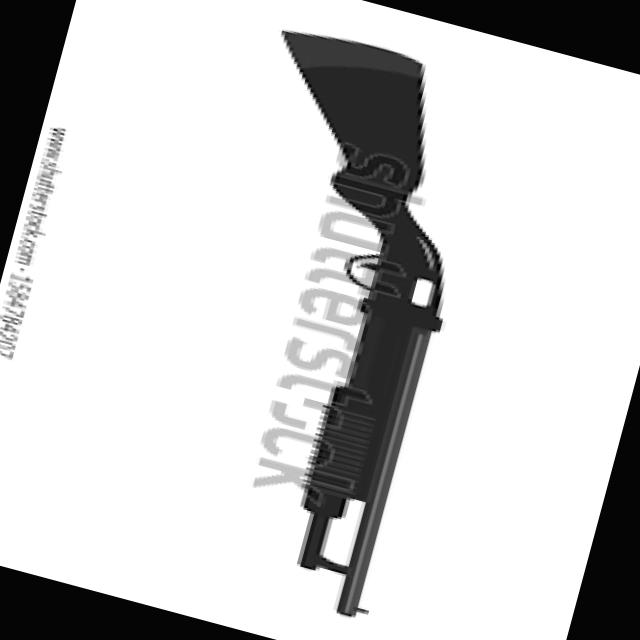long weapon: (226, 0, 490, 626)
